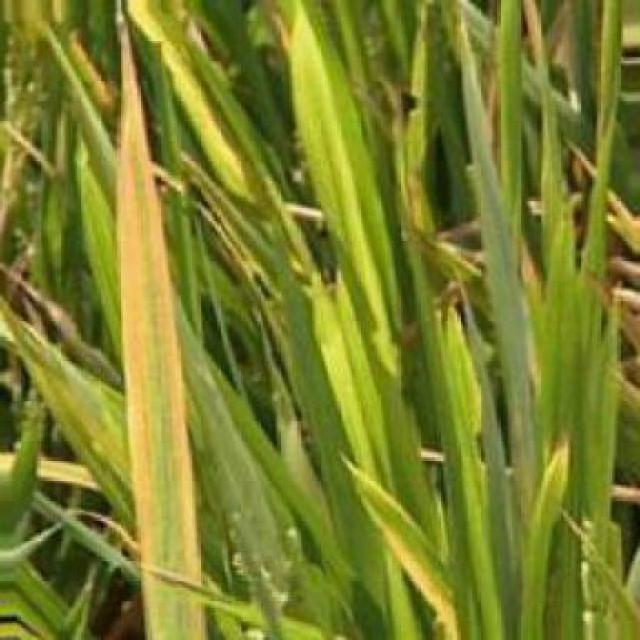Rice Tungro: (92, 22, 203, 638), (290, 2, 415, 410), (348, 449, 459, 624), (145, 15, 260, 180), (308, 265, 380, 448), (508, 420, 580, 552), (442, 267, 482, 427)
